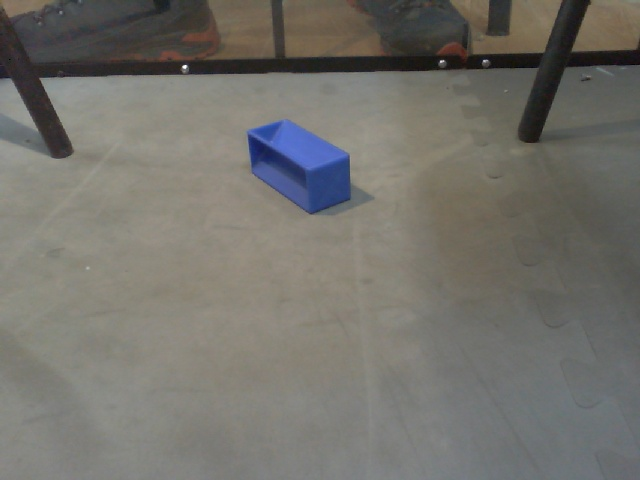BlueSample: (247, 115, 353, 218)
